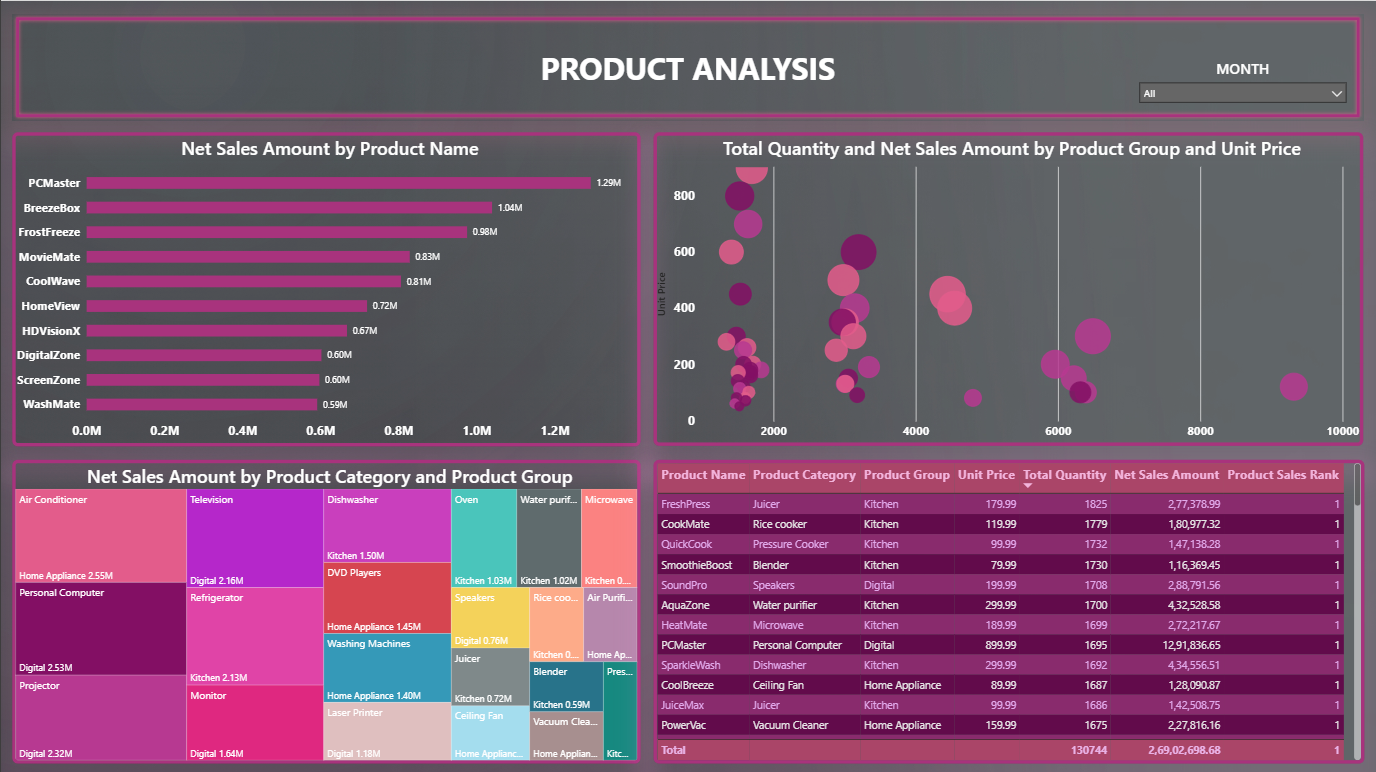

The dashboard page shown, as its layout file describes it:
{"tool":"powerbi","page":{"name":"PRODUCT ANALYSIS","canvas":[1920,1080],"ordinal":2},"visuals":[{"type":"shape","title":"HOME APPLIANCE & ELECTRONICS SALES ANALYTICS","box":[15.7,17.4,1885.5,150],"z":0},{"type":"clusteredBarChart","fields":{"Category":["product.Product Name"],"Y":["_MEASURES.Net Sales Amount"]},"box":[16.5,183.2,876.8,438.4],"z":1000},{"type":"treemap","fields":{"Group":["product.Product Category"],"Details":["product.Product Group"],"Values":["_MEASURES.Net Sales Amount"]},"box":[16.5,640.1,876.8,424],"z":2000},{"type":"scatterChart","fields":{"Size":["_MEASURES.Net Sales Amount"],"Series":["product.Product Group"],"X":["_MEASURES.Total Quantity"],"Y":["product.Unit Price"]},"box":[910.5,183.1,990.7,437.8],"z":3000},{"type":"tableEx","fields":{"Values":["product.Product Name","product.Product Category","product.Product Group","product.Unit Price","_MEASURES.Total Quantity","_MEASURES.Net Sales Amount","_MEASURES.Product Sales Rank"]},"box":[909.8,640.1,992.1,424],"z":4000},{"type":"slicer","title":"MONTH","fields":{"Values":["Calendar.Year-Month"]},"box":[1583.3,80,298.3,70],"z":5000}]}

Visuals, with their boxes in screenshot pixels (x1, y1, x2, y2), scaled from the page's 1920x1080 canvas onto the 1376x772 screenshot:
"HOME APPLIANCE & ELECTRONICS SALES ANALYTICS" shape: (11, 12, 1363, 120)
clusteredBarChart - product.Product Name x _MEASURES.Net Sales Amount: (12, 131, 640, 444)
treemap - product.Product Category x product.Product Group: (12, 458, 640, 761)
scatterChart - _MEASURES.Net Sales Amount x product.Product Group: (653, 131, 1363, 444)
tableEx - product.Product Name x product.Product Category: (652, 458, 1363, 761)
"MONTH" slicer: (1135, 57, 1348, 107)
